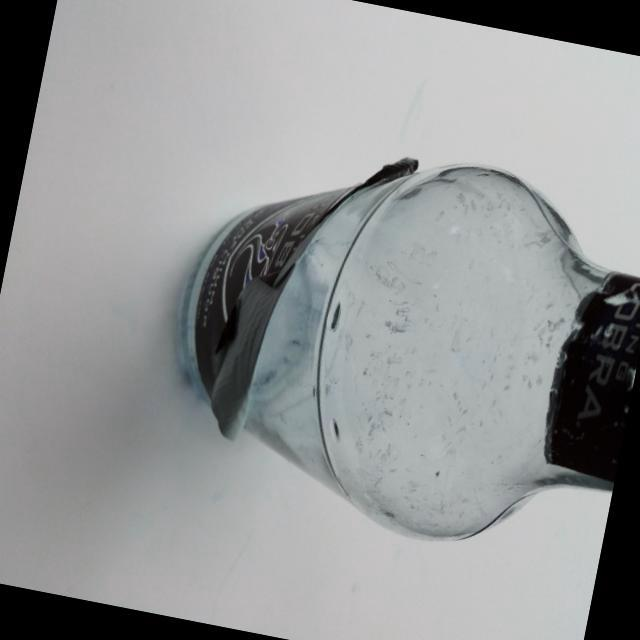glass: (145, 107, 640, 575)
